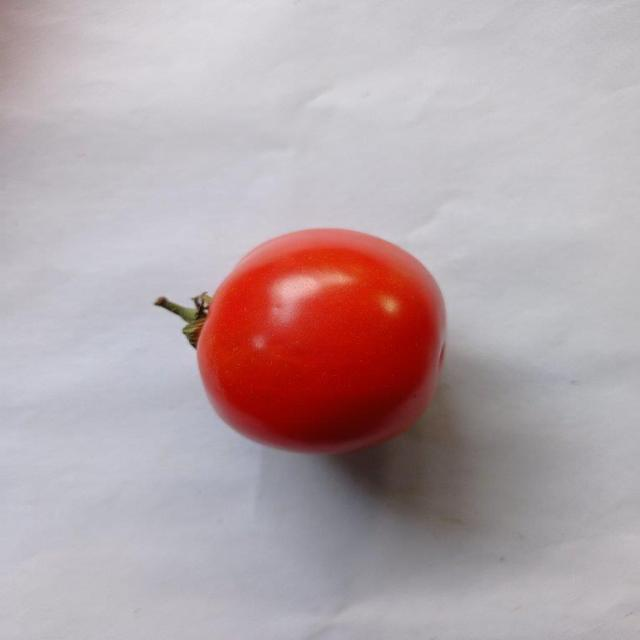Tomato: (153, 223, 452, 458)
